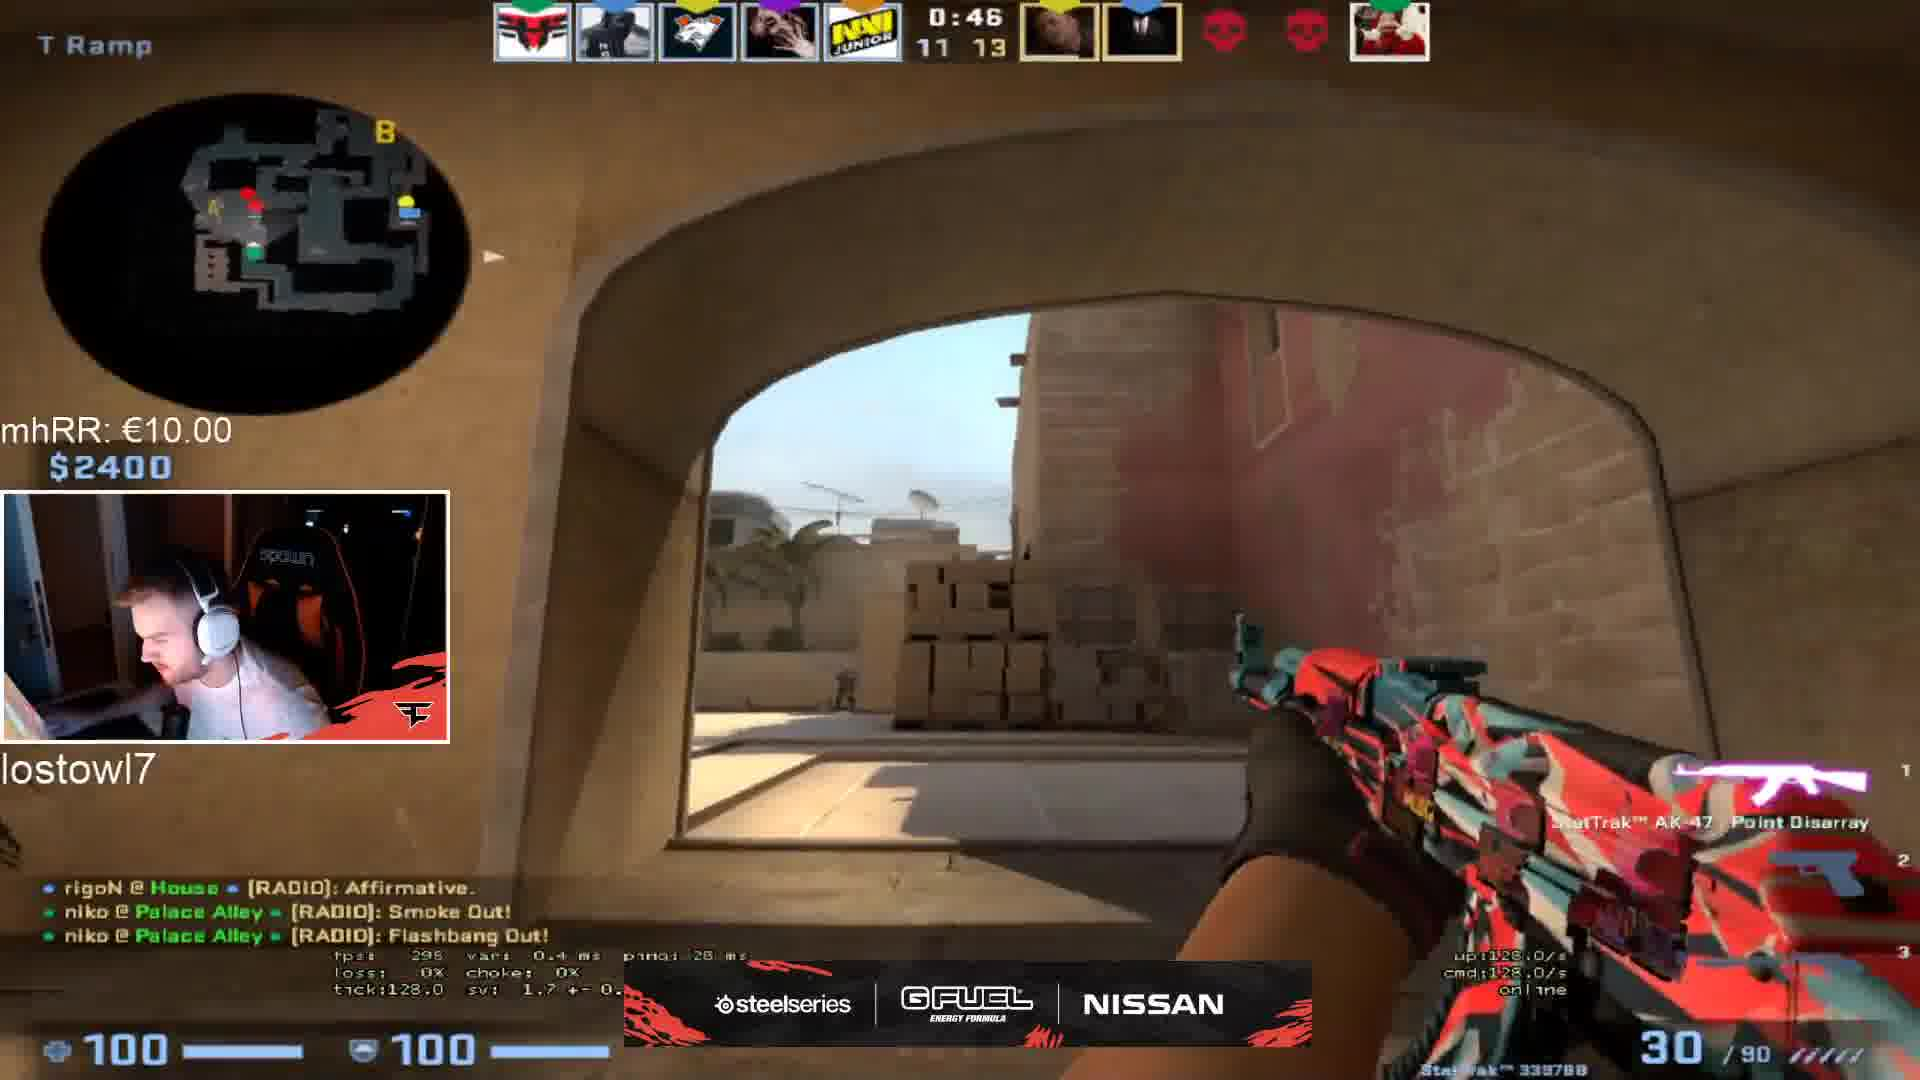enemy: (825, 659, 865, 719)
